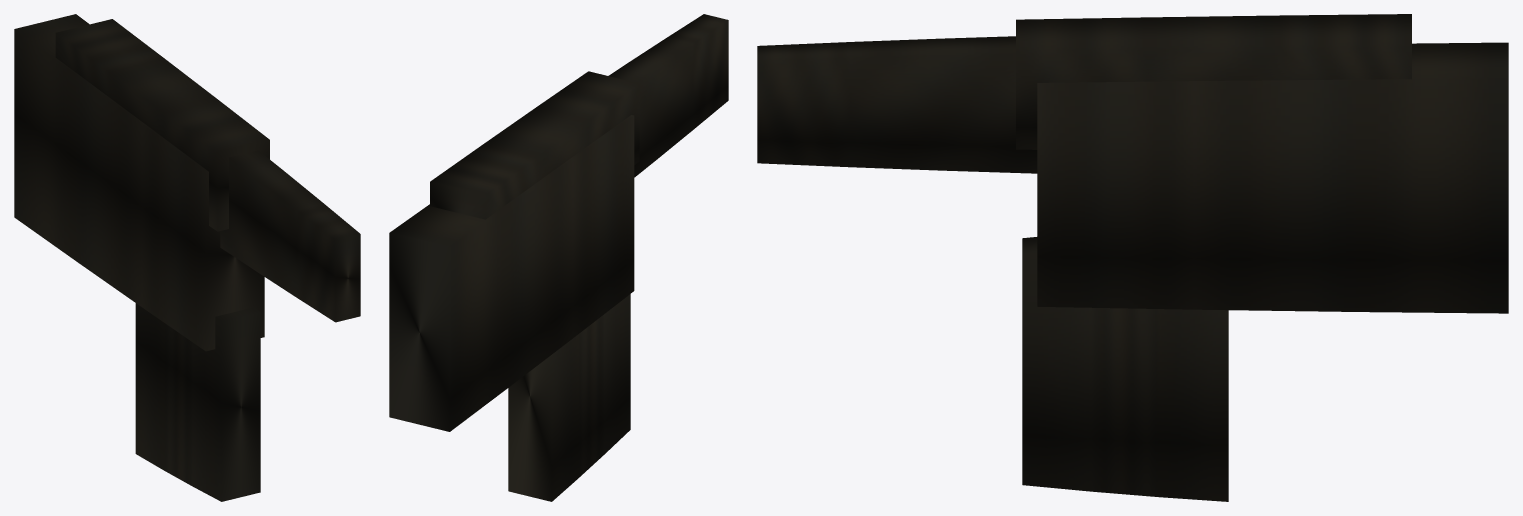
Rendered from wpn_makarov_pm.glb.
3 views of the same model, side by side, from view 1: azimuth 30°, elevation 25°; view 2: azimuth 150°, elevation 25°; view 3: azimuth 270°, elevation 25° (orthographic). The views are drawn at different scales.
Visible parts, largest first — view 1: SubMesh_0_Receiver, SubMesh_2_Magazine, SubMesh_3_BarrelSight, SubMesh_1_Action; view 2: SubMesh_0_Receiver, SubMesh_2_Magazine, SubMesh_1_Action, SubMesh_3_BarrelSight; view 3: SubMesh_0_Receiver, SubMesh_2_Magazine, SubMesh_3_BarrelSight, SubMesh_1_Action.
Boxes of the visible parts, x1,y1,x2,y2 form: SubMesh_0_Receiver: (14,14,264,351); SubMesh_2_Magazine: (135,303,260,501); SubMesh_3_BarrelSight: (220,150,360,322); SubMesh_1_Action: (55,19,269,231); SubMesh_0_Receiver: (389,115,634,431); SubMesh_2_Magazine: (508,294,630,501); SubMesh_1_Action: (430,71,639,219); SubMesh_3_BarrelSight: (608,14,728,177); SubMesh_0_Receiver: (1037,42,1508,313); SubMesh_2_Magazine: (1022,237,1228,501); SubMesh_3_BarrelSight: (757,36,1037,173); SubMesh_1_Action: (1016,14,1411,149).
Size of the model in its own units: 0.03 by 0.1713 by 0.255.
Materials: 1 (1 with a texture image).
